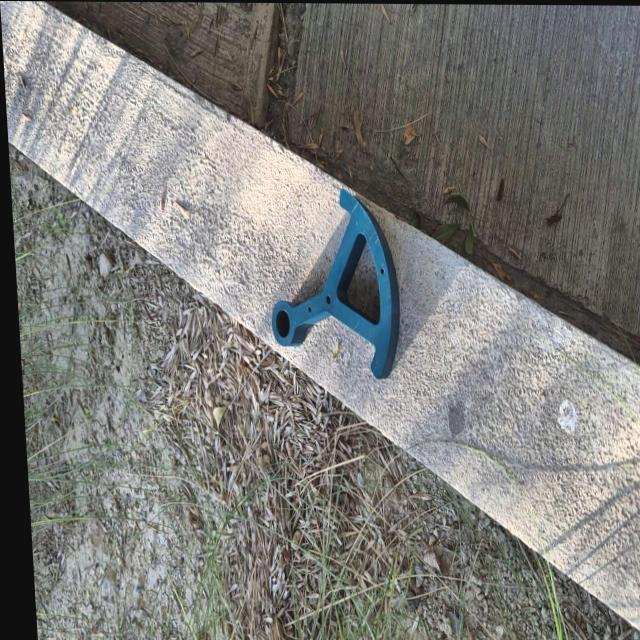haptic: (263, 186, 405, 380)
